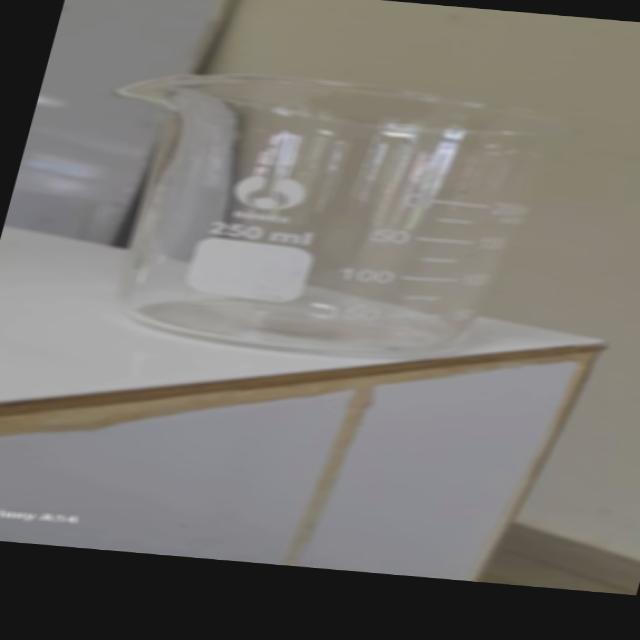Beakers: (46, 54, 616, 376)
